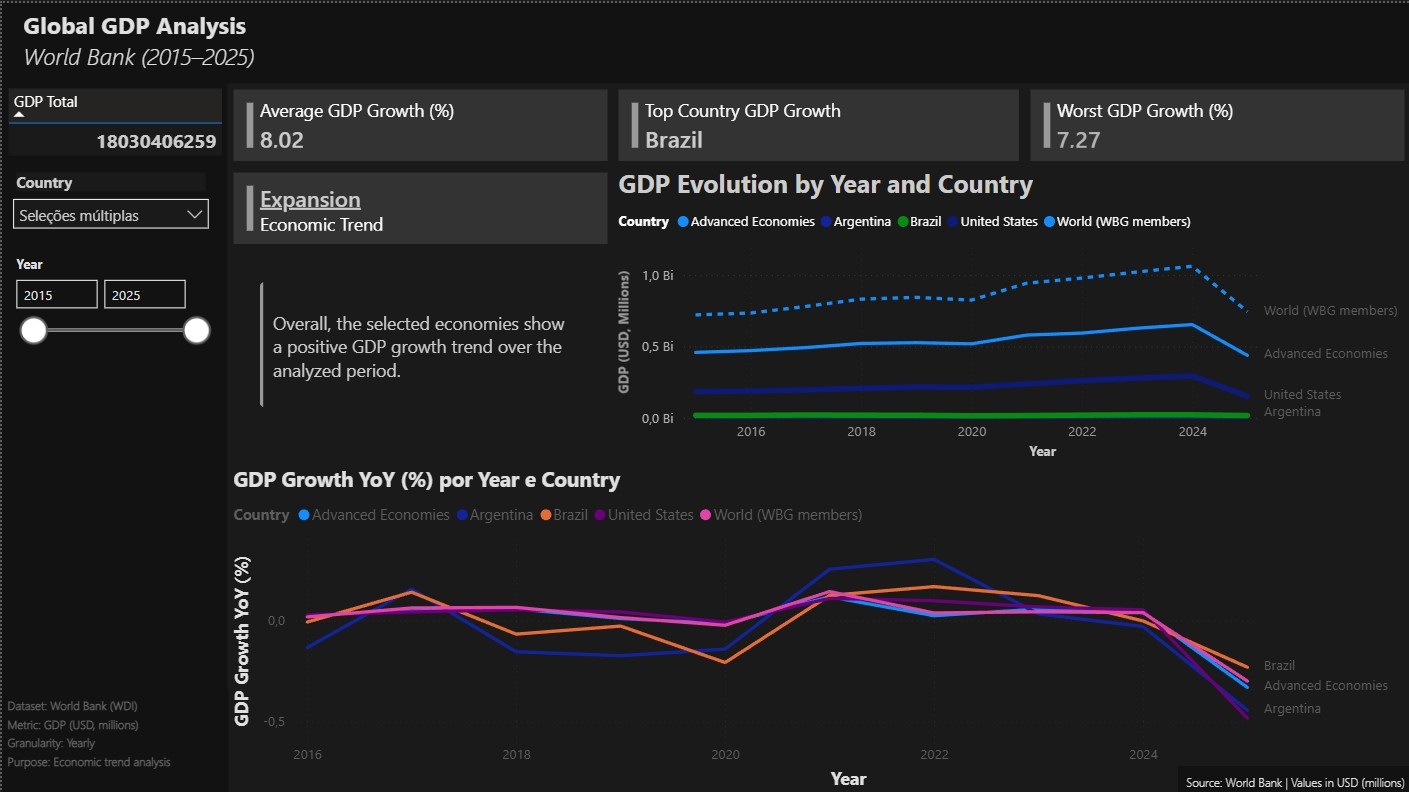

What the dashboard file says about the page in this screenshot:
{"tool":"powerbi","page":{"name":"Página 1","canvas":[1280,720],"ordinal":0},"visuals":[{"type":"tableEx","title":"Total GDP","fields":{"Values":["gdp_powerbi.GDP Total"]},"box":[0,73,205,647],"z":0},{"type":"lineChart","title":"GDP Evolution by Year and Country","fields":{"Category":["gdp_powerbi.Year"],"Series":["gdp_powerbi.Country"],"Y":["gdp_powerbi.GDP Total"]},"box":[555.6,148.9,724.4,271.1],"z":1000},{"type":"slicer","fields":{"Values":["gdp_powerbi.Country"]},"box":[0,148.9,197.8,106.7],"z":2000},{"type":"lineChart","fields":{"Category":["gdp_powerbi.Year"],"Y":["gdp_powerbi.GDP Growth YoY (%)"],"Series":["gdp_powerbi.Country"]},"box":[205.6,420,1074.4,300],"z":3000},{"type":"textbox","box":[0,0,1280,73],"z":4000},{"type":"cardVisual","fields":{"Data":["gdp_powerbi.Top Country GDP Growth"]},"box":[555.6,73.3,374.4,75.6],"z":5000},{"type":"cardVisual","fields":{"Data":["gdp_powerbi.Average GDP Growth (%)","gdp_powerbi.Average GDP Growth (%)","Sum(gdp_powerbi.Year)"]},"box":[205.6,73.3,350,75.6],"z":6000},{"type":"cardVisual","fields":{"Data":["gdp_powerbi.Worst GDP Growth (%)"]},"box":[930,73.3,350,75.6],"z":7000},{"type":"slicer","fields":{"Values":["gdp_powerbi.Year"]},"box":[0,223.3,197.8,106.7],"z":8000},{"type":"textbox","box":[1068.9,693.3,211.1,26.7],"z":9000},{"type":"cardVisual","fields":{"Data":["gdp_powerbi.Economic Trend"]},"box":[205.6,148.9,350,75],"z":9001},{"type":"cardVisual","fields":{"Data":["gdp_powerbi.Executive Insight"]},"box":[205.6,224.4,350,172.2],"z":9002},{"type":"textbox","box":[0,623.3,205.6,96.7],"z":9003}]}

Visuals, with their boxes in screenshot pixels (x1, y1, x2, y2), scaled from the page's 1280x720 canvas onto the 1409x792 screenshot:
"Total GDP" tableEx: pyautogui.locateOnScreen(0, 80, 226, 791)
"GDP Evolution by Year and Country" lineChart: pyautogui.locateOnScreen(612, 164, 1408, 462)
slicer - gdp_powerbi.Country: pyautogui.locateOnScreen(0, 164, 218, 281)
lineChart - gdp_powerbi.Year x gdp_powerbi.GDP Growth YoY (%): pyautogui.locateOnScreen(226, 462, 1408, 791)
textbox: pyautogui.locateOnScreen(0, 0, 1408, 80)
cardVisual - gdp_powerbi.Top Country GDP Growth: pyautogui.locateOnScreen(612, 81, 1024, 164)
cardVisual - gdp_powerbi.Average GDP Growth (%) x gdp_powerbi.Average GDP Growth (%): pyautogui.locateOnScreen(226, 81, 612, 164)
cardVisual - gdp_powerbi.Worst GDP Growth (%): pyautogui.locateOnScreen(1024, 81, 1408, 164)
slicer - gdp_powerbi.Year: pyautogui.locateOnScreen(0, 246, 218, 363)
textbox: pyautogui.locateOnScreen(1177, 763, 1408, 791)
cardVisual - gdp_powerbi.Economic Trend: pyautogui.locateOnScreen(226, 164, 612, 246)
cardVisual - gdp_powerbi.Executive Insight: pyautogui.locateOnScreen(226, 247, 612, 436)
textbox: pyautogui.locateOnScreen(0, 686, 226, 791)
